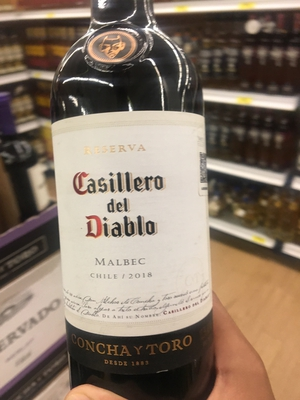casillero del diablo malbec: (45, 7, 245, 400)
